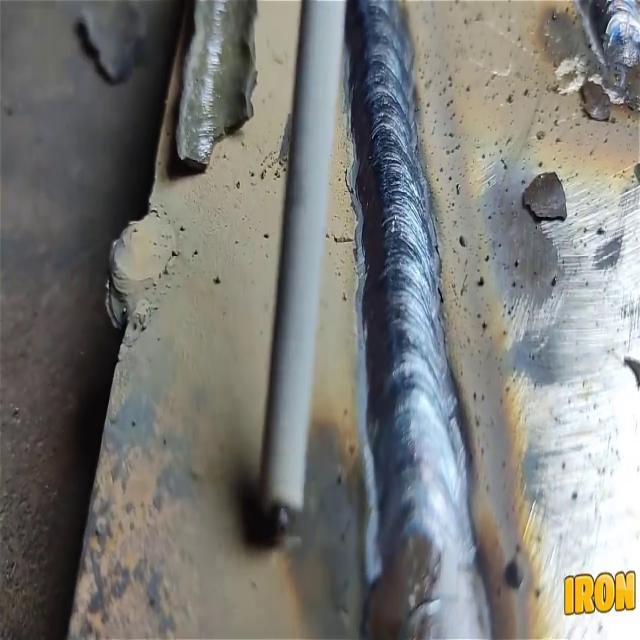Good Weld: (344, 0, 483, 534)
